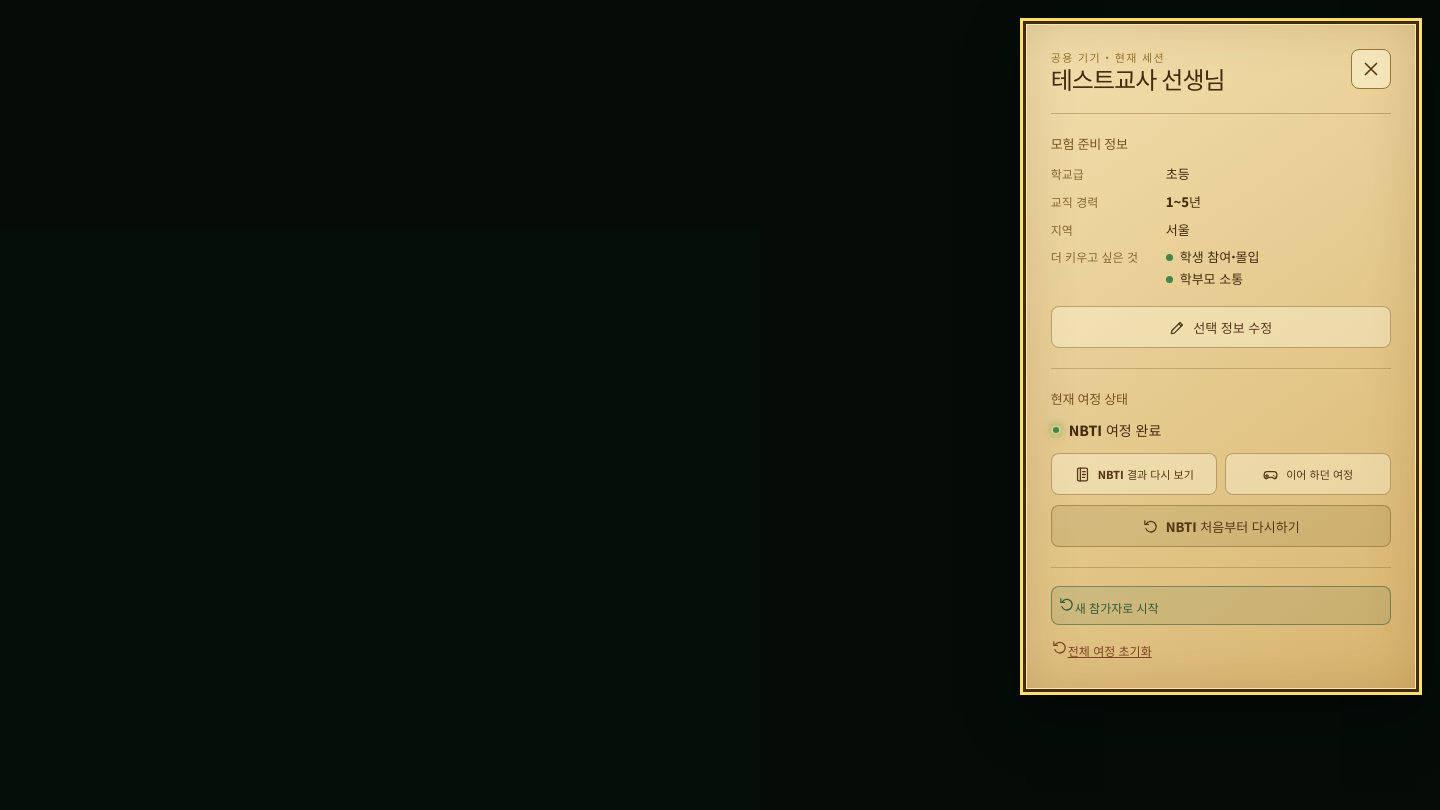
Scenario: TeacherPanel › asks for confirmation before running NBTI 처음부터 다시하기
The width and height of the screenshot is (1440, 810).
Click the button "NBTI 처음부터 다시하기" at coordinates (1221, 526), box [1051,505,1391,547]
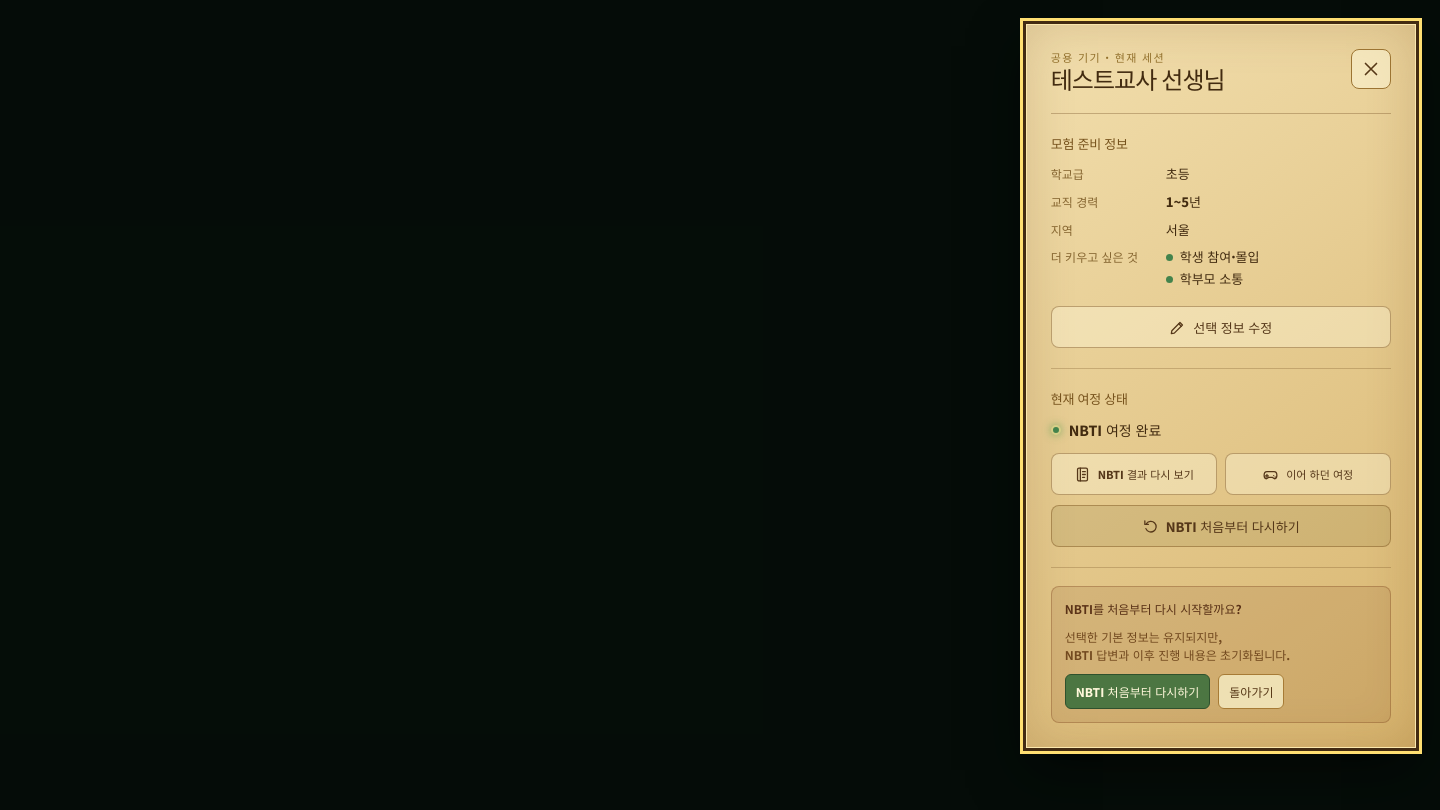
Expected: the text "NBTI를 처음부터 다시 시작할까요?" is shown, [1065,600,1242,617]
